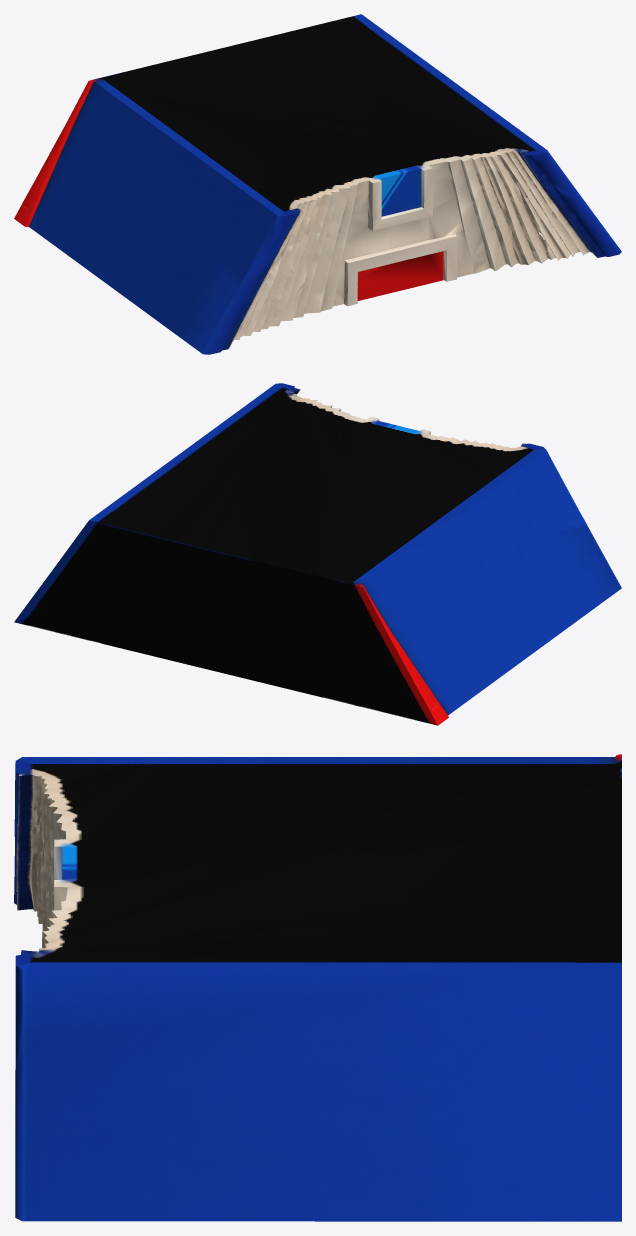
Rendered from 5-upper-walls-front.fbx.
3 renders of one model, top to bottom at view 1: azimuth 30°, elevation 25°; view 2: azimuth 150°, elevation 25°; view 3: azimuth 270°, elevation 25°, orthographic. The views are drawn at different scales.
Parts seen in each view (by area): view 1: upper-walls-front; view 2: upper-walls-front; view 3: upper-walls-front.
Boxes of the visible parts, x1=… form: upper-walls-front: x1=14, y1=14, x2=621, y2=354; upper-walls-front: x1=14, y1=383, x2=621, y2=725; upper-walls-front: x1=14, y1=754, x2=621, y2=1221.
Size of the model in its own units: 11636 by 3155 by 8992.
1 material, 1 textured.
